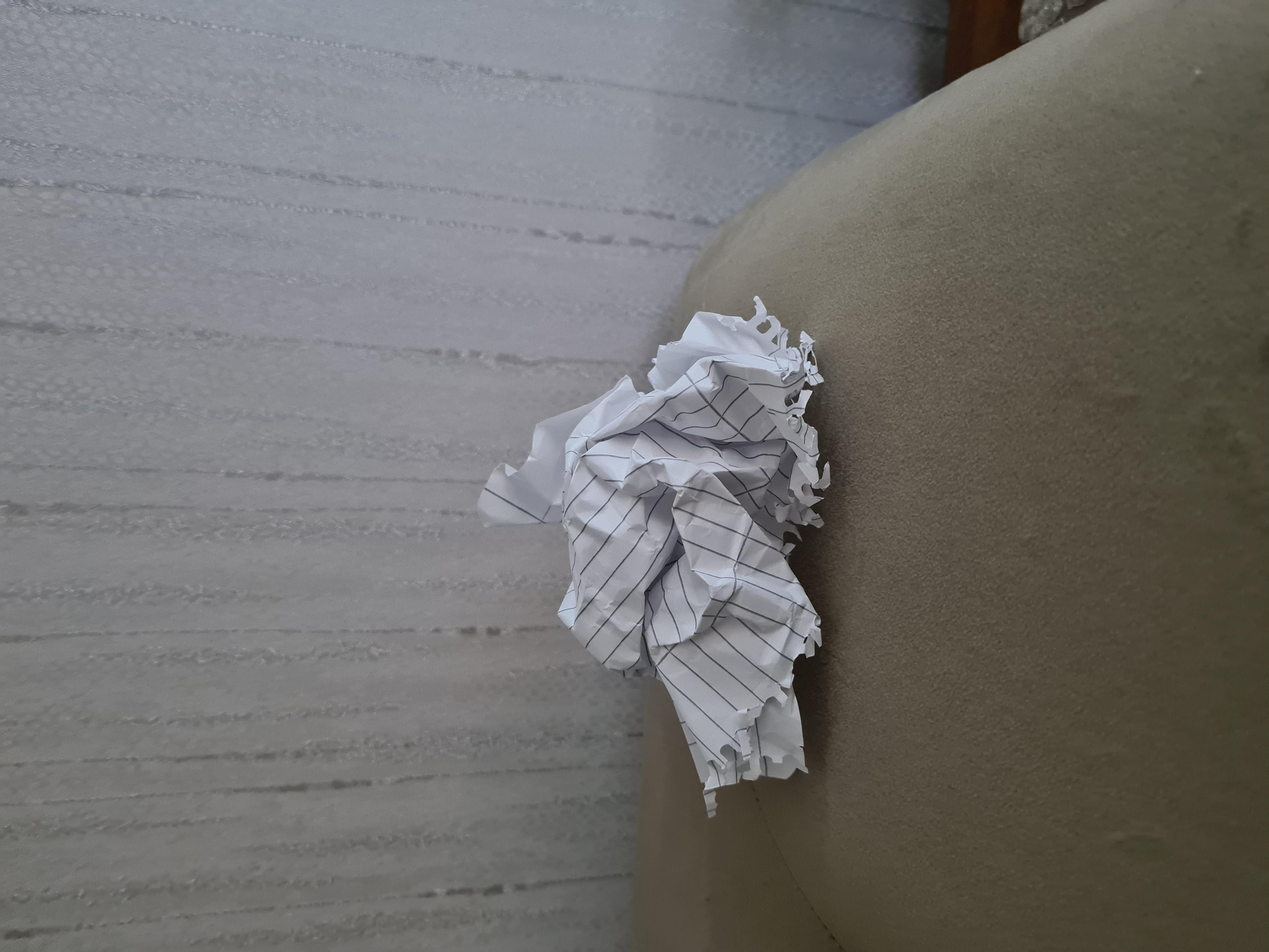paper: (190, 359, 866, 629)
